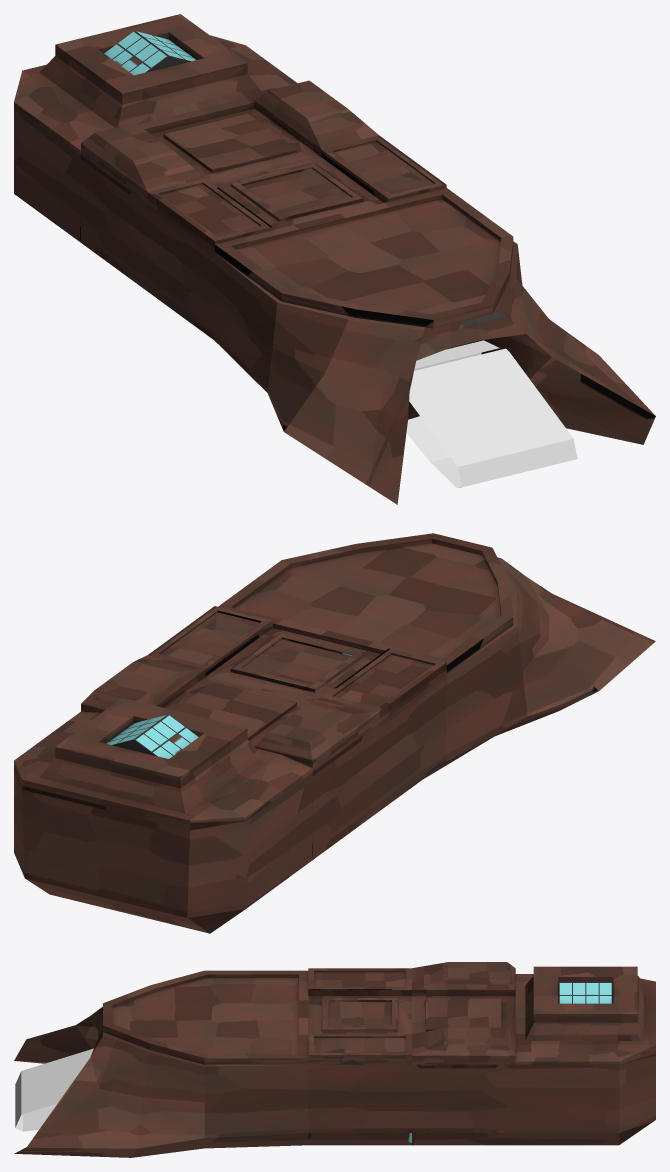
The model's file is THEBOATfIXED.fbx.
3 renders of one model, top to bottom at view 1: azimuth 30°, elevation 25°; view 2: azimuth 150°, elevation 25°; view 3: azimuth 270°, elevation 25°, orthographic. The views are drawn at different scales.
Visible parts, largest first — view 1: segmentTop, Plane; view 2: segmentTop; view 3: segmentTop, Plane.
Part boxes in pixels (bbox=[...]): segmentTop: bbox=[14, 14, 655, 504]; Plane: bbox=[406, 340, 577, 487]; segmentTop: bbox=[14, 533, 655, 933]; segmentTop: bbox=[14, 962, 655, 1157]; Plane: bbox=[15, 1048, 93, 1131].
Bounding box in the file's own units: 544 × 282 × 1239.
1 material, 1 textured.
